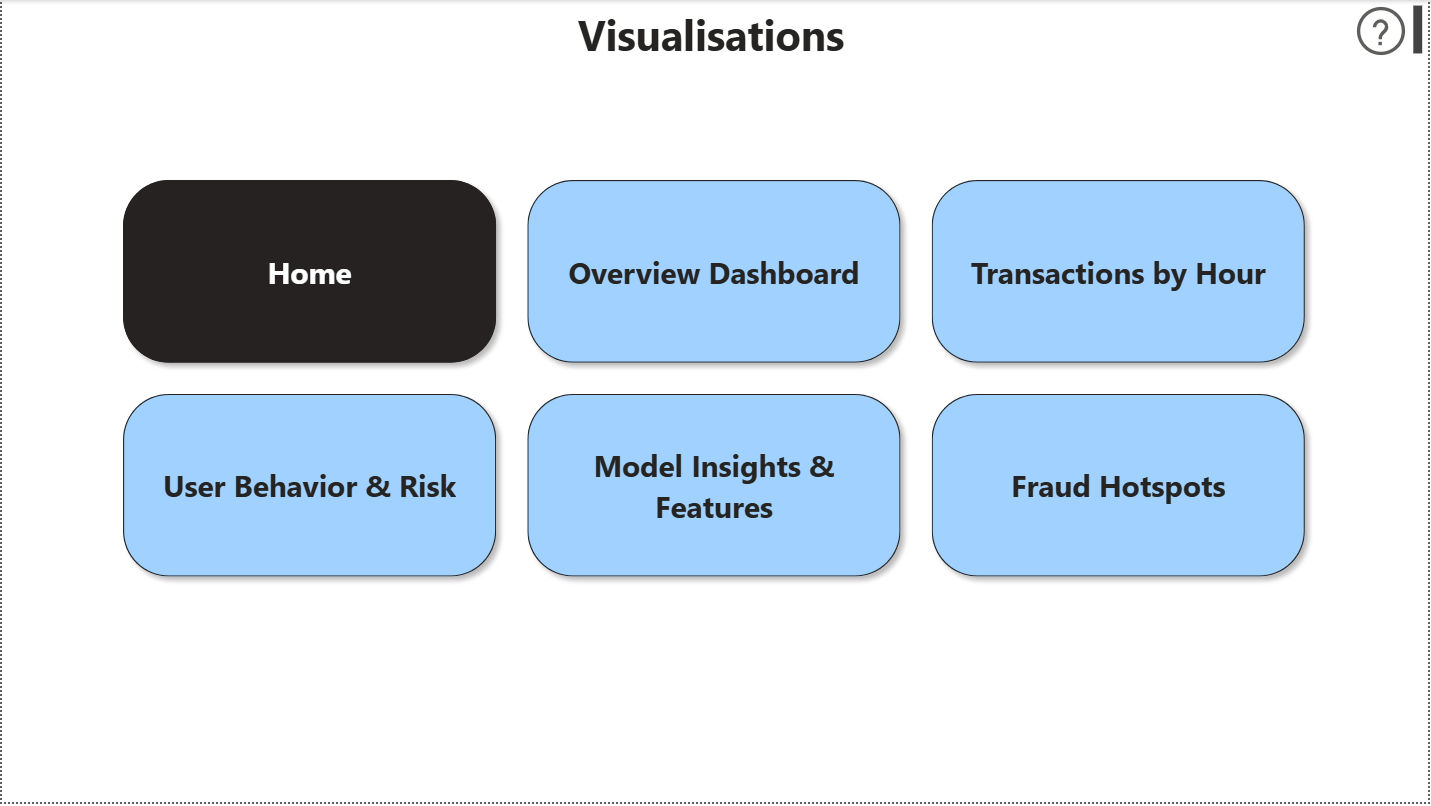

The dashboard page shown, as its layout file describes it:
{"tool":"powerbi","page":{"name":"Home","canvas":[1280,720],"ordinal":0},"visuals":[{"type":"textbox","box":[0,0,1280.2,55.7],"z":0},{"type":"actionButton","box":[1210,0,70,55.7],"z":1000},{"type":"pageNavigator","box":[99.2,152.7,1081.6,567.1],"z":2000}]}

Visuals, with their boxes in screenshot pixels (x1, y1, x2, y2), scaled from the page's 1280x720 canvas onto the 1431x806 screenshot:
textbox: left=0, top=0, right=1430, bottom=62
actionButton: left=1353, top=0, right=1430, bottom=62
pageNavigator: left=111, top=171, right=1320, bottom=805
